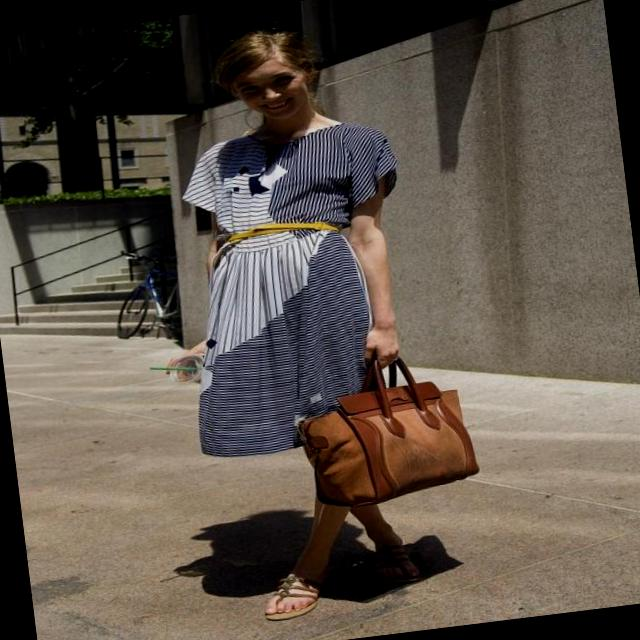dress: (162, 114, 430, 464)
